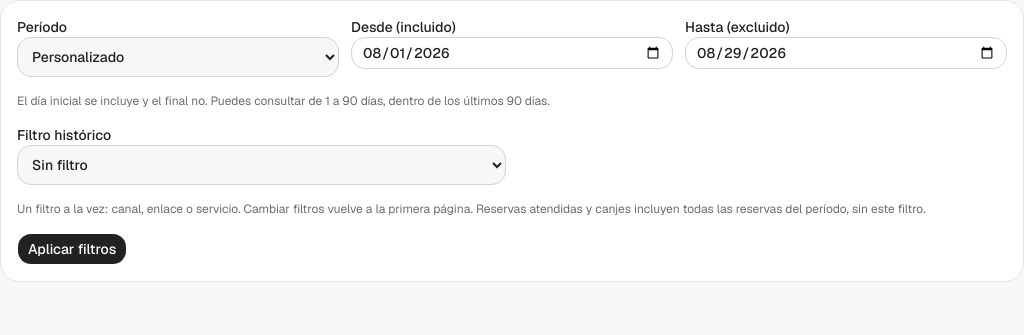
Test: actual analytics management controls › focuses the first missing custom date and moves the associated error as dates are corrected
Clear the date field named "from" at (512, 53), box top-left (351, 37), bottom-right (673, 69)
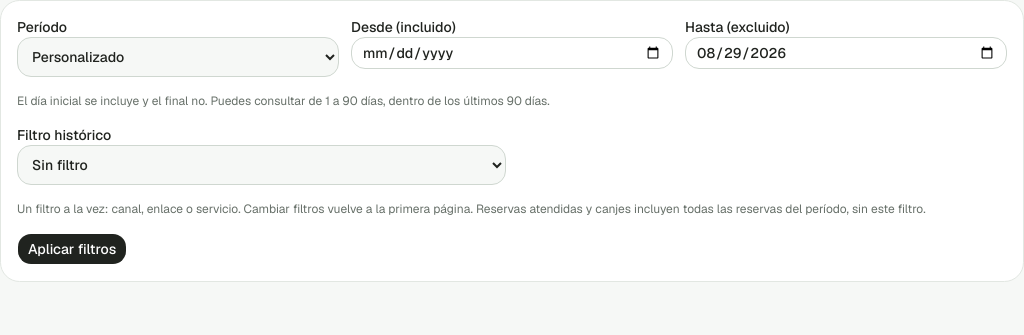
Clear the date field named "to" at (846, 53), box top-left (685, 37), bottom-right (1007, 69)
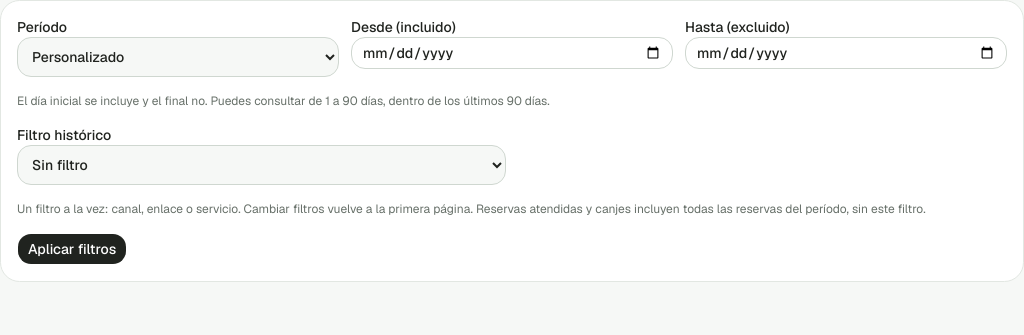
Submit the form
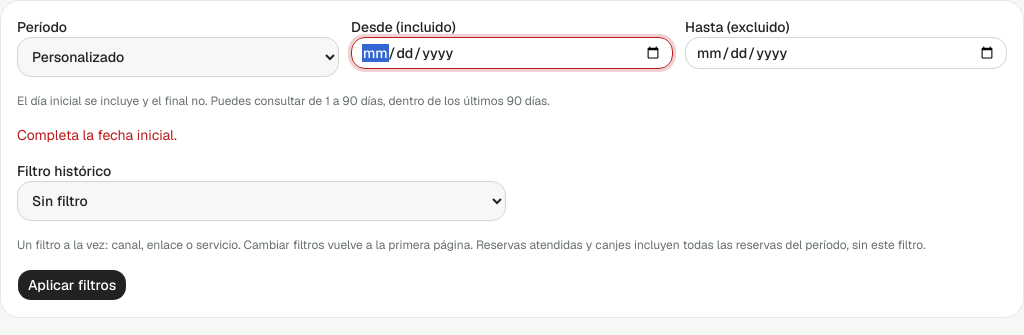
Expected: the date field named "from" has attribute aria-describedby="analytics-period-error"
Type "2026-08-28" into the date field named "from" at (512, 53), box top-left (351, 37), bottom-right (673, 69)
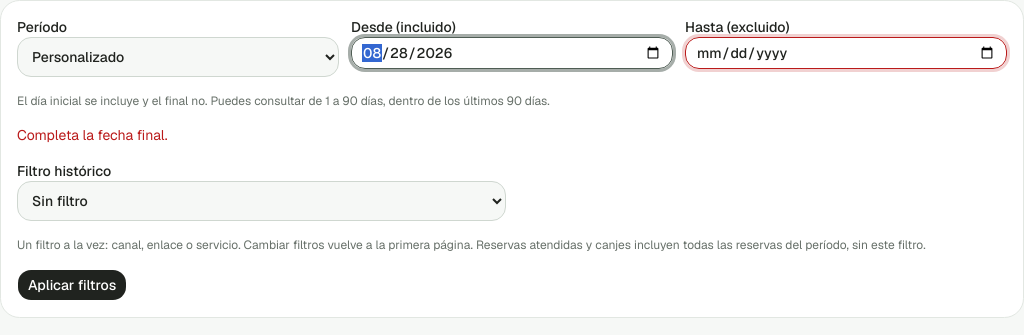
Expected: the message "Completa la fecha final." is shown, top-left (17, 126), bottom-right (168, 144)
Type "2026-08-29" into the date field named "to" at (846, 53), box top-left (685, 37), bottom-right (1007, 69)
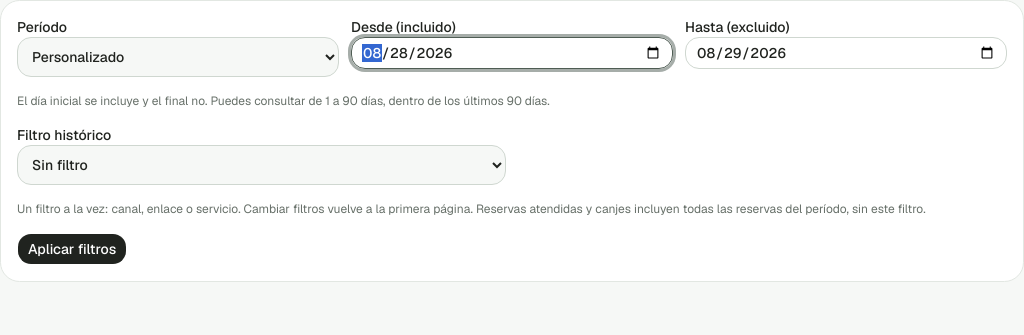
Expected: the message "Completa la fecha final." is gone
